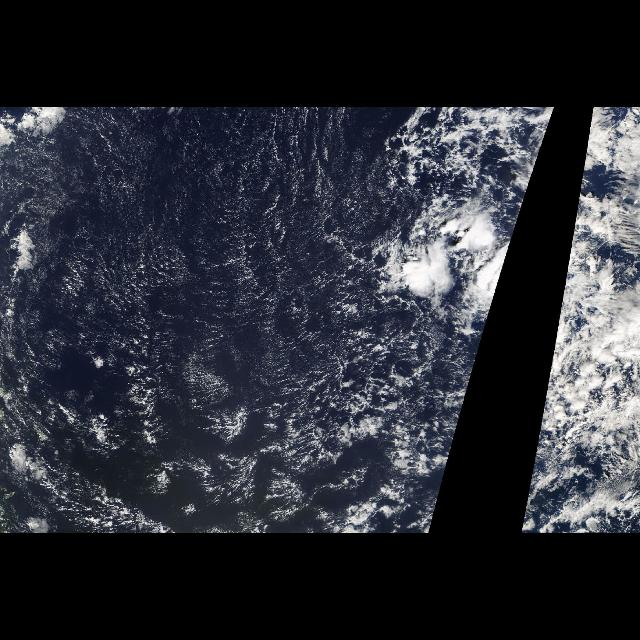Gravel: (214, 318, 474, 530)
Sugar: (52, 110, 430, 508)
